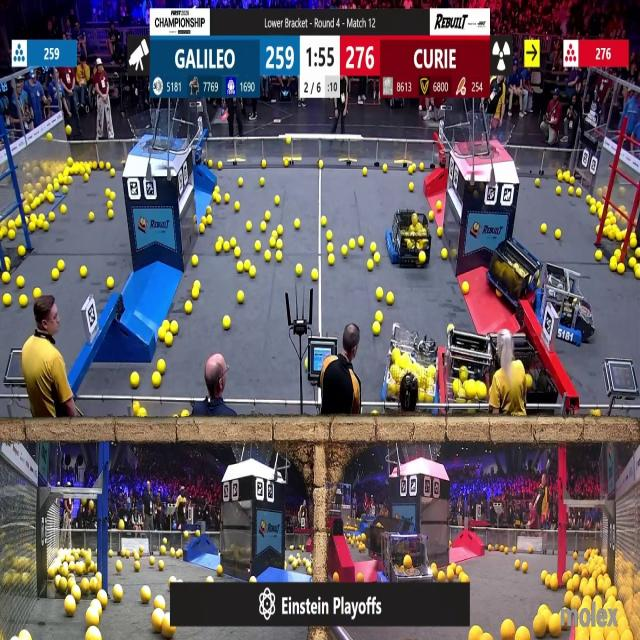ball_airborne: (501, 620, 515, 640), (66, 126, 72, 136), (46, 134, 51, 142)
ball_ground: (550, 618, 562, 639), (163, 618, 174, 639), (152, 613, 162, 634), (88, 612, 100, 628), (66, 598, 76, 616), (141, 587, 151, 604), (517, 628, 530, 640), (469, 626, 480, 640), (99, 592, 108, 607), (80, 577, 89, 592), (88, 629, 100, 640), (447, 566, 456, 580), (152, 373, 160, 388), (114, 587, 122, 602), (570, 596, 579, 609), (132, 374, 140, 388), (222, 316, 230, 329), (419, 251, 427, 264), (18, 294, 26, 307), (564, 594, 572, 607), (73, 589, 81, 602), (154, 598, 163, 609), (184, 302, 192, 314), (2, 273, 10, 285), (165, 335, 173, 347), (630, 236, 638, 248), (92, 580, 100, 592), (171, 321, 178, 334), (629, 257, 637, 268), (20, 632, 31, 640), (107, 278, 114, 290), (387, 292, 394, 304), (3, 294, 10, 306), (16, 276, 23, 288), (159, 360, 166, 372), (377, 288, 384, 300), (461, 282, 468, 294), (460, 572, 468, 582), (269, 240, 277, 250), (610, 260, 616, 273), (312, 270, 319, 281), (376, 312, 383, 323), (17, 246, 24, 257), (190, 255, 197, 266), (59, 262, 66, 273), (374, 323, 381, 334), (237, 263, 244, 274), (216, 241, 223, 252), (139, 408, 146, 419), (14, 217, 21, 228), (443, 248, 449, 260), (80, 267, 86, 279), (238, 290, 244, 302), (356, 572, 364, 581), (134, 405, 140, 417), (34, 288, 41, 298), (235, 248, 242, 258), (51, 270, 58, 280), (254, 242, 261, 252), (619, 265, 626, 275), (29, 222, 36, 232), (8, 230, 15, 240), (115, 562, 122, 572), (222, 243, 229, 253), (455, 565, 462, 575), (295, 266, 301, 277), (191, 288, 197, 299), (596, 250, 602, 261), (266, 250, 272, 261), (244, 262, 250, 273), (522, 562, 528, 573), (593, 411, 601, 419), (259, 221, 266, 230), (192, 280, 199, 289), (435, 229, 442, 238), (539, 223, 546, 232), (43, 221, 49, 231), (556, 230, 562, 240), (277, 251, 283, 261), (250, 268, 256, 278), (246, 220, 252, 230), (357, 238, 363, 248), (277, 240, 283, 250), (370, 242, 376, 252), (342, 246, 348, 256), (375, 253, 381, 263), (278, 224, 284, 234), (266, 211, 272, 221), (135, 562, 141, 572), (350, 240, 356, 250), (25, 206, 31, 216), (4, 256, 10, 266), (47, 192, 53, 202), (617, 232, 623, 242), (250, 575, 257, 583), (367, 261, 372, 272), (0, 229, 5, 240), (90, 212, 96, 221), (275, 197, 281, 206), (293, 219, 299, 228), (61, 206, 67, 215), (435, 202, 441, 211), (231, 239, 237, 248), (200, 223, 206, 232), (335, 572, 341, 581), (165, 320, 171, 329), (616, 249, 622, 258), (214, 193, 220, 202), (54, 186, 60, 195), (236, 202, 241, 212), (328, 254, 333, 264), (321, 216, 326, 226), (326, 232, 331, 242), (49, 212, 54, 222), (635, 270, 640, 280), (160, 561, 165, 571), (160, 328, 165, 338), (561, 172, 566, 182), (181, 412, 188, 419), (107, 201, 113, 209), (207, 575, 213, 583), (110, 170, 116, 178), (284, 160, 290, 168), (67, 176, 73, 184), (318, 162, 324, 170), (110, 190, 116, 198), (149, 557, 155, 565), (38, 214, 44, 222), (272, 230, 278, 238), (587, 194, 593, 202), (568, 175, 574, 183), (608, 232, 614, 240), (47, 183, 53, 191), (108, 210, 113, 219), (557, 186, 562, 195), (327, 244, 332, 253), (516, 561, 521, 570), (568, 186, 573, 195), (635, 248, 640, 257), (591, 206, 596, 215), (214, 185, 220, 192), (596, 225, 602, 232), (602, 227, 608, 234), (218, 565, 222, 575), (259, 178, 264, 186), (362, 168, 367, 176), (239, 178, 244, 186), (217, 163, 222, 171), (105, 188, 110, 196), (420, 164, 425, 172), (383, 165, 388, 173), (162, 545, 167, 553), (177, 551, 182, 559), (100, 162, 105, 170), (428, 212, 433, 220), (140, 544, 145, 552), (410, 182, 414, 191), (224, 193, 228, 202), (535, 178, 539, 187), (410, 167, 415, 174), (31, 215, 36, 222), (575, 188, 580, 195), (207, 208, 212, 215), (135, 554, 140, 561), (208, 216, 212, 224), (308, 567, 312, 575), (64, 185, 68, 193), (292, 561, 296, 569), (172, 550, 176, 558), (208, 162, 212, 170), (106, 164, 110, 172), (371, 412, 376, 418), (503, 546, 508, 552), (572, 553, 577, 559), (84, 175, 88, 182), (170, 576, 174, 583), (264, 160, 268, 167), (488, 543, 492, 550), (202, 216, 206, 223), (529, 545, 533, 552), (164, 537, 168, 544), (198, 532, 202, 539), (514, 545, 517, 552)
goal: (460, 118, 516, 158), (129, 115, 186, 152)
robot_blue: (539, 262, 598, 346), (385, 333, 442, 412), (378, 521, 428, 597), (386, 211, 431, 266)
robot_red: (443, 324, 503, 421), (491, 244, 542, 308)
